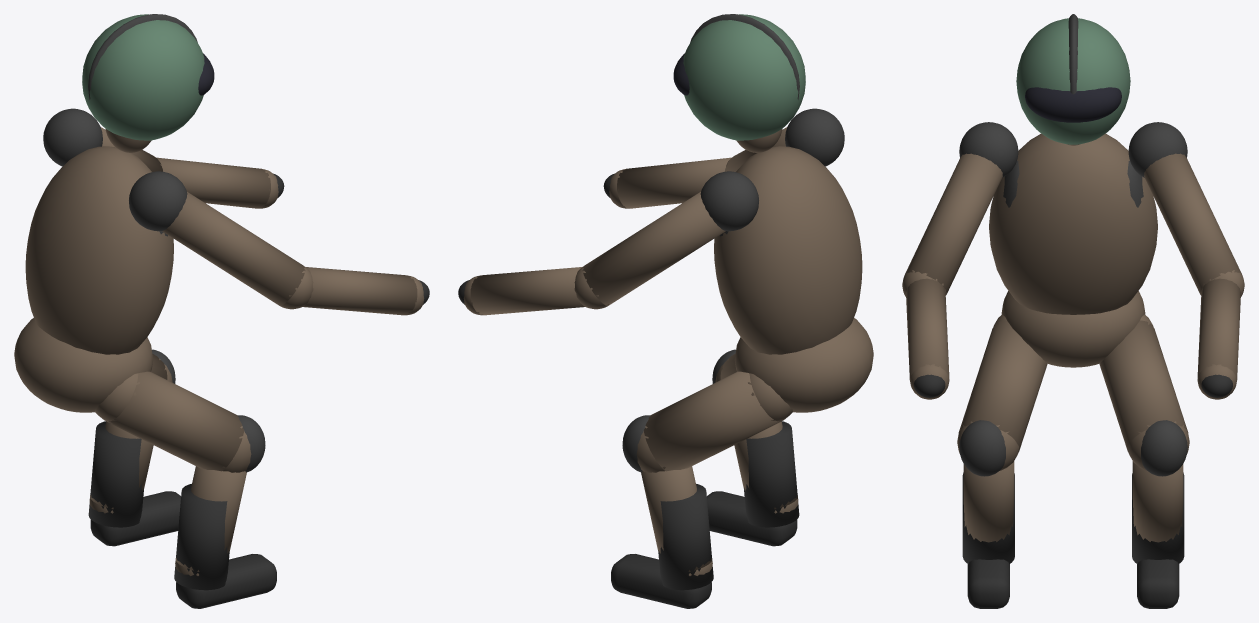
The model's file is STRADA700_Pilota.glb.
3 renders of one model, left to right at view 1: azimuth 30°, elevation 25°; view 2: azimuth 150°, elevation 25°; view 3: azimuth 270°, elevation 25°, orthographic.
Visible parts, largest first — view 1: STRADA700_Pilota; view 2: STRADA700_Pilota; view 3: STRADA700_Pilota.
Boxes of the visible parts, x1,y1,x2,y2 form: STRADA700_Pilota: (14,14,429,608); STRADA700_Pilota: (458,14,873,608); STRADA700_Pilota: (902,14,1244,608).
Bounding box in the file's own units: 0.8922 × 1.44 × 0.81.
